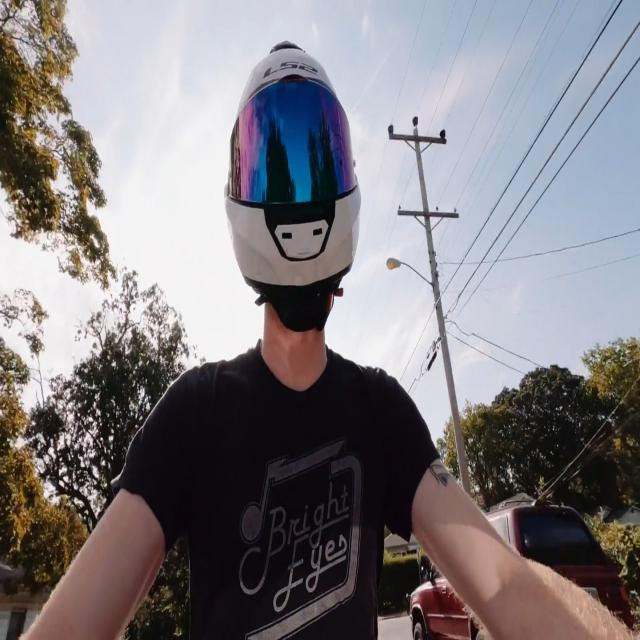Helmet_Wearer: (218, 40, 378, 409)
Person: (0, 43, 640, 640)
